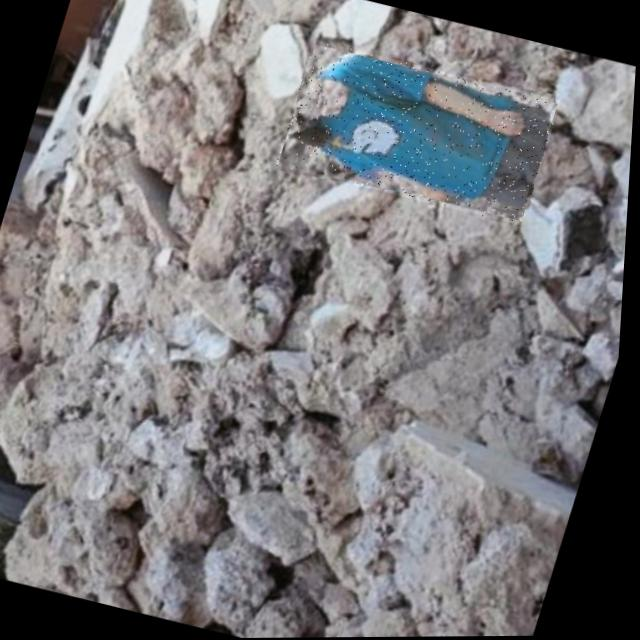Person in Rubble: (274, 37, 565, 227)
